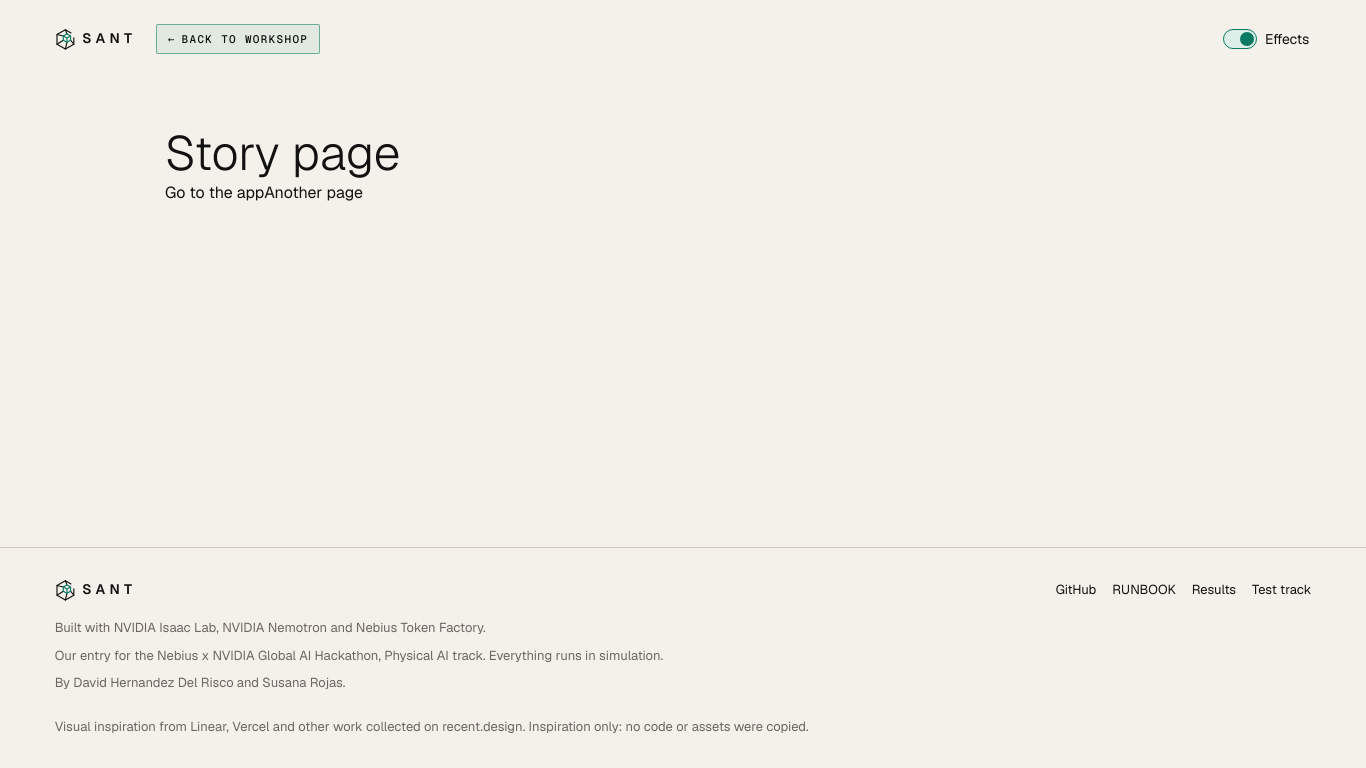
the story ↔ app crossing on links › uses a view transition for the crossfade where the browser has one
Click the link "Go to the app": (215, 193) [165,182,264,203]
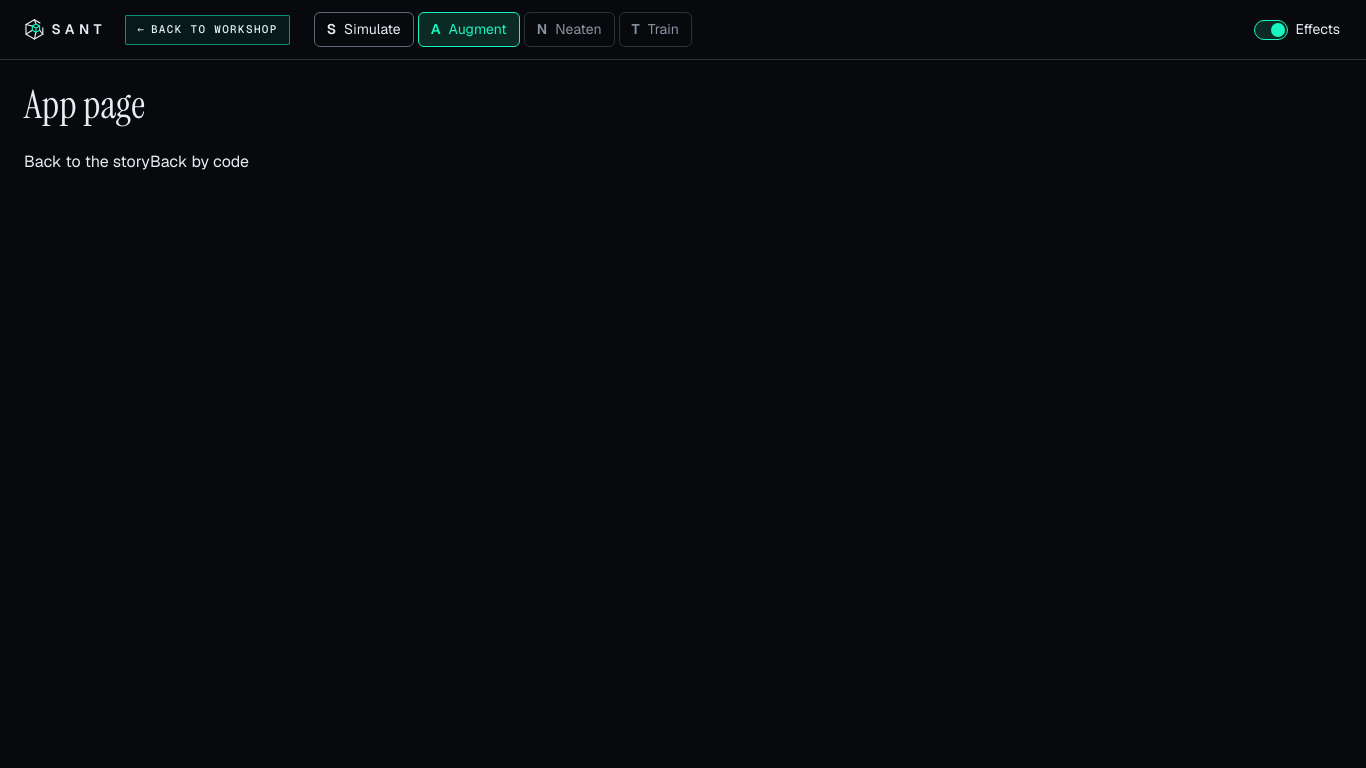
Expected: the heading "App page" is shown, [24,84,145,126]
